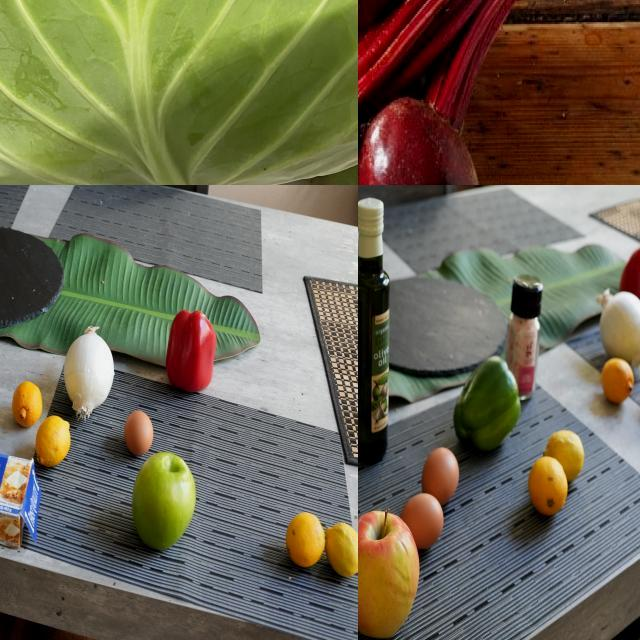beet: (359, 97, 485, 186)
bell_pepper: (452, 357, 528, 457), (162, 307, 222, 401), (616, 242, 640, 320)
cabbage: (1, 1, 359, 186)
egg: (398, 494, 444, 554), (422, 448, 460, 504), (124, 408, 156, 456)
onion: (62, 322, 119, 419), (595, 286, 640, 373)
